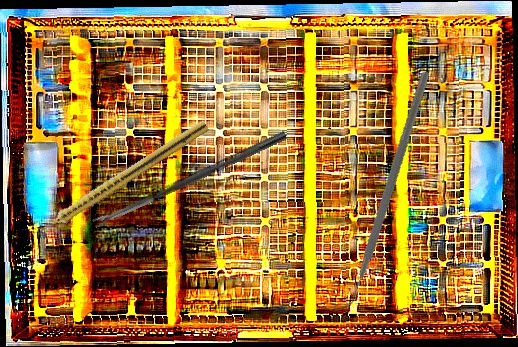Chopper: (280, 71, 480, 313)
Handpiece: (34, 116, 210, 239)
Surgical Spoon: (91, 129, 288, 229)
